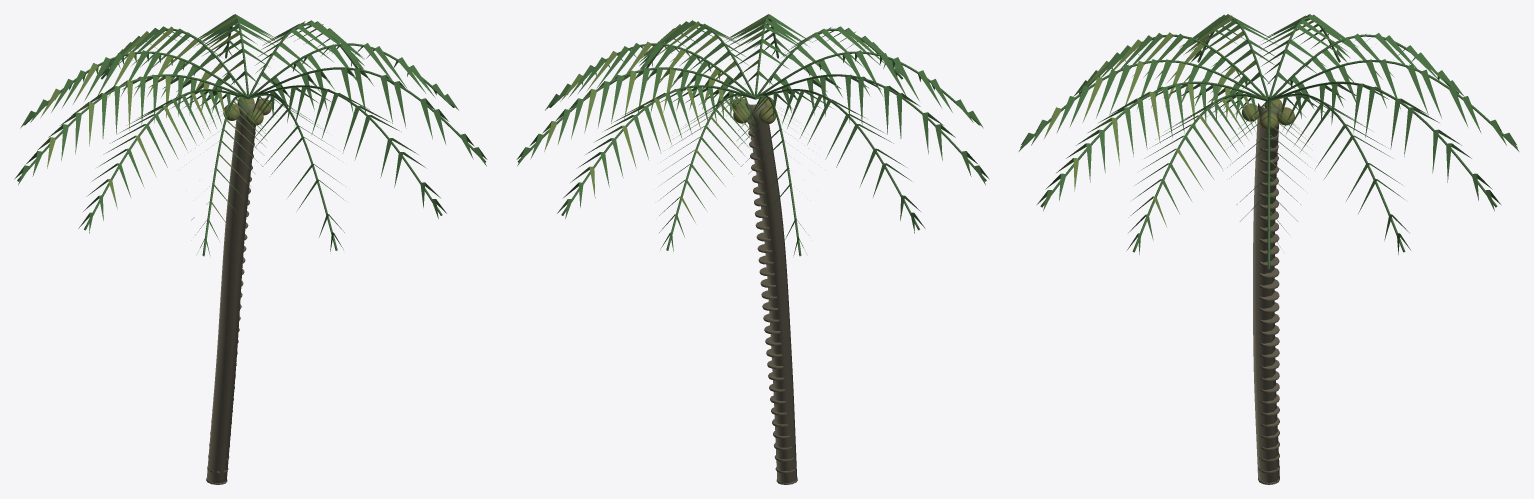
The model's file is palm.glb.
The picture shows the model from 3 angles, left to right: view 1: azimuth 30°, elevation 25°; view 2: azimuth 150°, elevation 25°; view 3: azimuth 270°, elevation 25°; orthographic projection. The views are drawn at different scales.
Parts seen in each view (by area): view 1: Palm fronds, Palm bark, Sunlit leaflets, Coconut husk; view 2: Palm fronds, Palm bark, Sunlit leaflets, Palm growth rings, Coconut husk; view 3: Palm fronds, Palm bark, Sunlit leaflets, Palm growth rings, Coconut husk.
Boxes of the visible parts, x1,y1,x2,y2 form: Palm fronds: (14,14,487,256); Palm bark: (207,99,258,483); Sunlit leaflets: (37,15,339,226); Coconut husk: (223,97,271,125); Palm fronds: (516,14,989,256); Palm bark: (745,99,797,483); Sunlit leaflets: (542,16,855,222); Palm growth rings: (747,121,797,484); Coconut husk: (732,96,775,124); Palm fronds: (1018,14,1519,268); Palm bark: (1253,103,1279,482); Sunlit leaflets: (1044,15,1355,233); Palm growth rings: (1258,123,1279,484); Coconut husk: (1242,99,1294,129).
Size of the model in its own units: 10.92 by 10.46 by 11.03.
